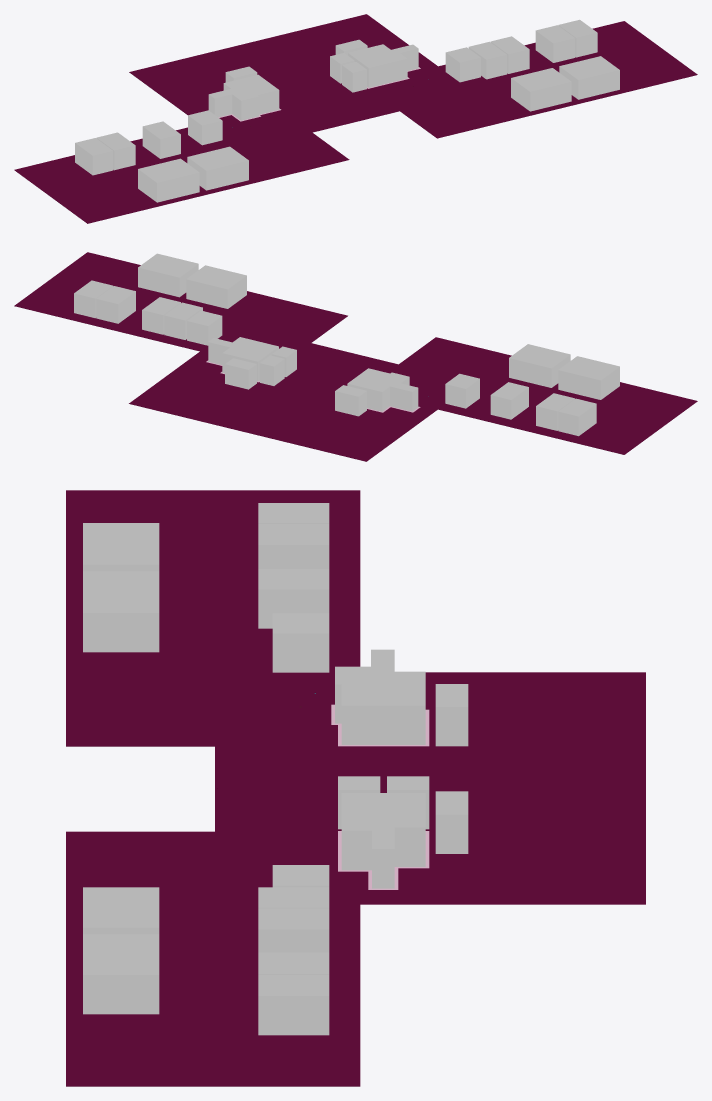
Rendered from njc-l1-canteen-v3-11-4.glb.
The picture shows the model from 3 angles, top to bottom: view 1: azimuth 30°, elevation 25°; view 2: azimuth 150°, elevation 25°; view 3: azimuth 270°, elevation 25°; orthographic projection. The views are drawn at different scales.
Visible parts, largest first — view 1: Base, Mtoilet, C13, Ftoilet, C15, C14, C16, C11, C4, C1, C7, C6 (+6 smaller); view 2: Base, Mtoilet, C13, C15, C14, C16, Ftoilet, C11, C4, C1, C7, C6 (+8 smaller); view 3: Base, Mtoilet, Ftoilet, C14, C16, C12, C13, C15, C6, C4, C2, C9 (+8 smaller).
Part boxes in pixels (x1,y1,x2,y2): Base: [14, 14, 697, 223]; Mtoilet: [208, 74, 279, 120]; C13: [138, 158, 199, 202]; Ftoilet: [348, 44, 418, 87]; C15: [511, 68, 571, 111]; C14: [187, 146, 248, 190]; C16: [559, 56, 619, 99]; C11: [535, 25, 575, 62]; C4: [142, 121, 180, 158]; C1: [75, 138, 113, 175]; C7: [445, 47, 480, 82]; C6: [188, 110, 222, 145]; Base: [14, 252, 697, 461]; Mtoilet: [347, 368, 418, 411]; C13: [558, 356, 619, 399]; C15: [186, 265, 246, 308]; C14: [509, 344, 570, 387]; C16: [138, 253, 198, 297]; Ftoilet: [208, 337, 278, 381]; C11: [96, 286, 135, 323]; C4: [490, 382, 528, 419]; C1: [558, 398, 596, 436]; C7: [187, 310, 222, 345]; C6: [445, 373, 479, 408]; Base: [66, 490, 645, 1086]; Mtoilet: [335, 649, 425, 744]; Ftoilet: [341, 793, 425, 888]; C14: [83, 571, 159, 652]; C16: [83, 934, 159, 1014]; C12: [258, 975, 329, 1035]; C13: [83, 523, 159, 571]; C15: [83, 887, 159, 934]; C6: [272, 613, 329, 672]; C4: [258, 569, 329, 628]; C2: [258, 524, 329, 568]; C9: [258, 908, 329, 952].
Size of the model in its own units: 6.44 by 0.2 by 2.65.
